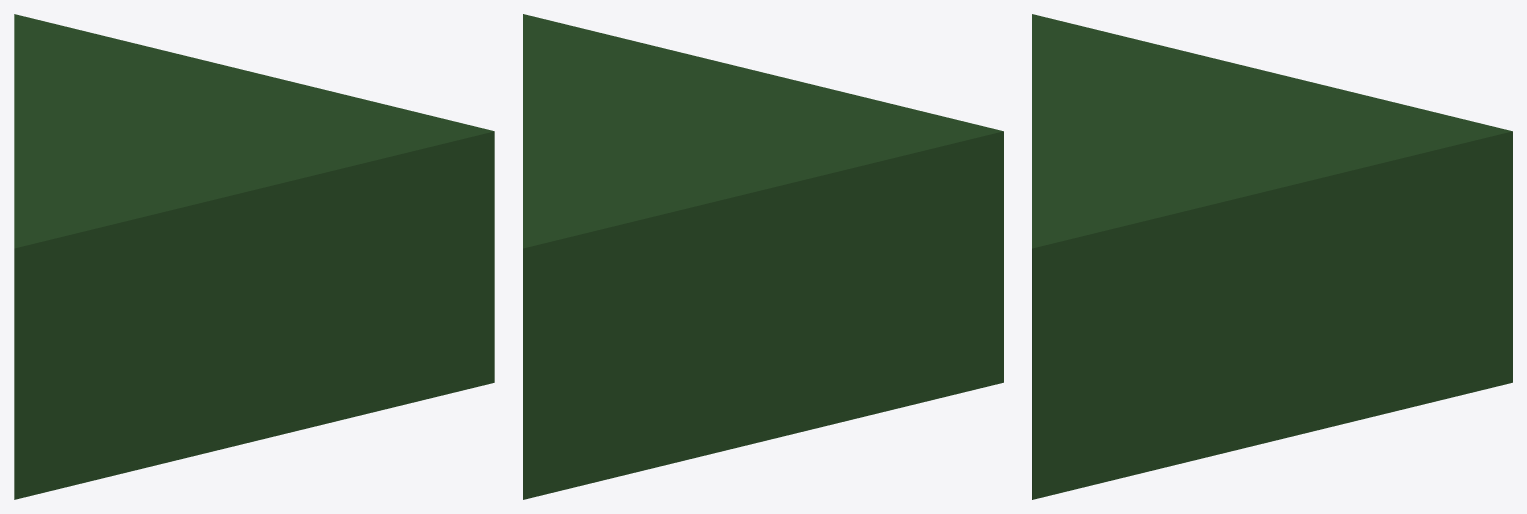
File: face_forest_forest_forest.glb
The picture shows the model from 3 angles, left to right: view 1: azimuth 30°, elevation 25°; view 2: azimuth 150°, elevation 25°; view 3: azimuth 270°, elevation 25°; orthographic projection.
Visible parts, largest first — view 1: face_forest_forest_forest; view 2: face_forest_forest_forest; view 3: face_forest_forest_forest.
Boxes of the visible parts, <box> form: face_forest_forest_forest: <box>14,14,494,499</box>; face_forest_forest_forest: <box>523,14,1003,499</box>; face_forest_forest_forest: <box>1032,14,1512,499</box>.
Bounding box in the file's own units: 1 × 0.5 × 0.8663.
